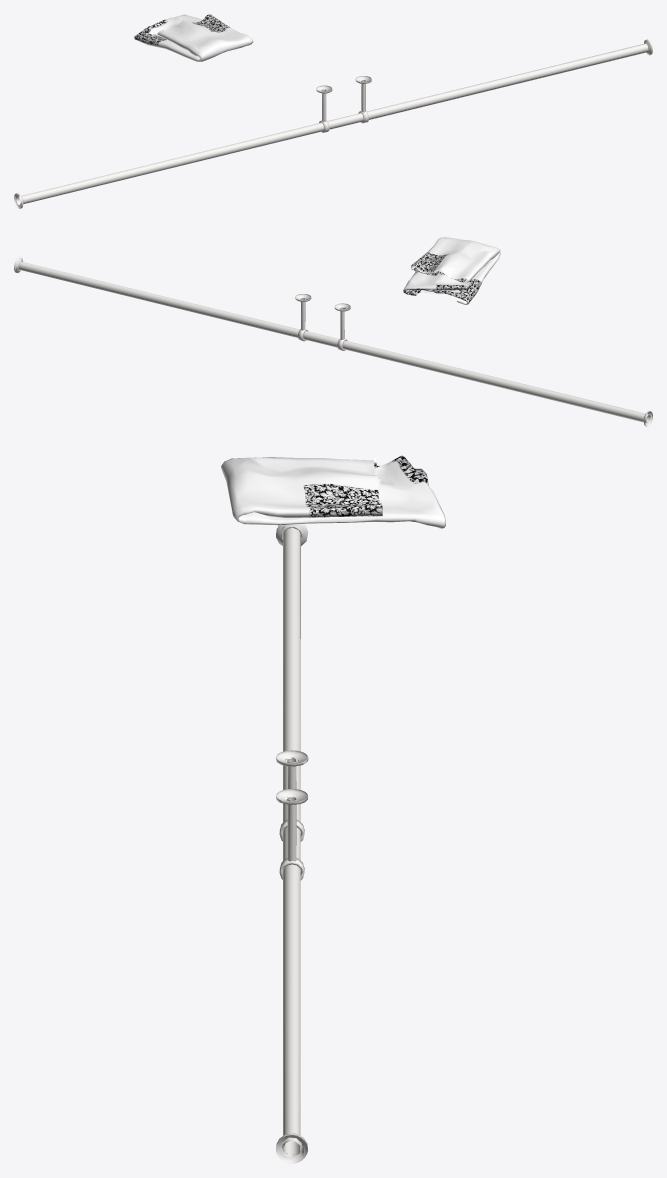
Rendered from rod-cloth4454.glb.
The picture shows the model from 3 angles, top to bottom: view 1: azimuth 30°, elevation 25°; view 2: azimuth 150°, elevation 25°; view 3: azimuth 270°, elevation 25°; orthographic projection. The views are drawn at different scales.
Visible parts, largest first — view 1: plastic_hanger.001, cloth4454.001; view 2: plastic_hanger.001, cloth4454.001; view 3: cloth4454.001, plastic_hanger.001.
Boxes of the visible parts, box(x1,y1,x2,y2) form: plastic_hanger.001: box(14, 39, 652, 208); cloth4454.001: box(134, 14, 253, 61); plastic_hanger.001: box(14, 257, 652, 426); cloth4454.001: box(403, 237, 500, 304); cloth4454.001: box(221, 455, 446, 528); plastic_hanger.001: box(276, 524, 308, 1163).
Bounding box in the file's own units: 1.72 × 0.3386 × 0.2658.
2 materials, 1 textured.
